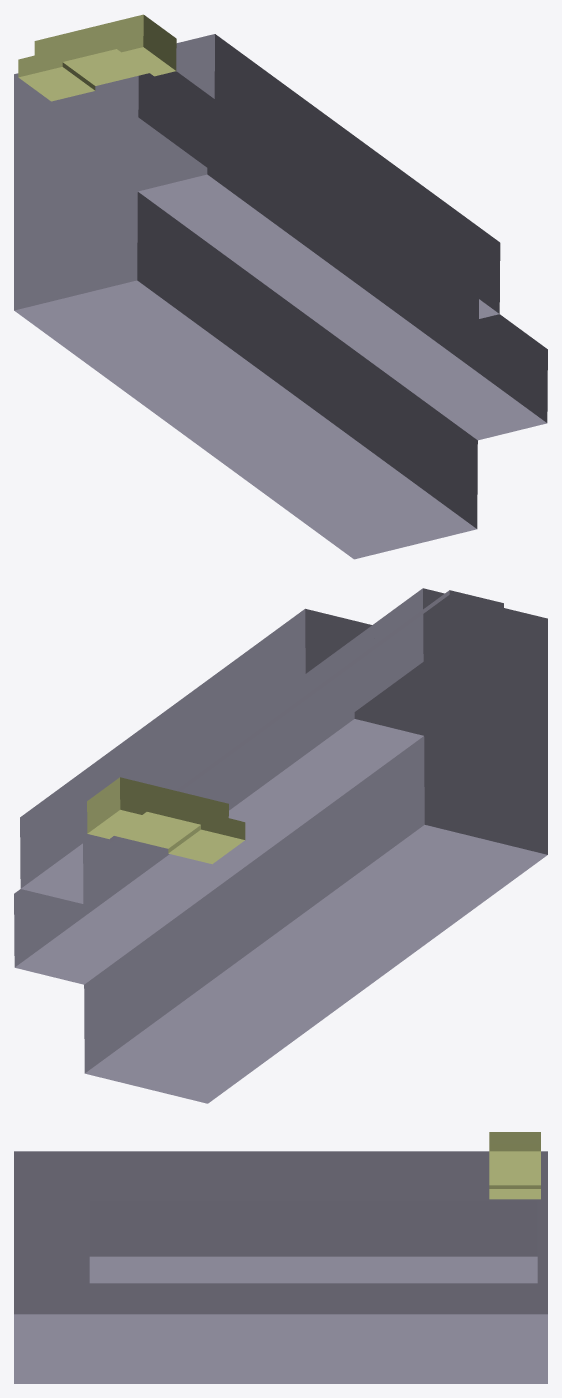
3 renders of one model, top to bottom at view 1: azimuth 30°, elevation 25°; view 2: azimuth 150°, elevation 25°; view 3: azimuth 270°, elevation 25°, orthographic. The views are drawn at different scales.
Parts seen in each view (by area): view 1: 0_3_1_3_0_3_3_0_3; view 2: 0_3_1_3_0_3_3_0_3; view 3: 0_3_1_3_0_3_3_0_3.
Part boxes in pixels (x1,y1,x2,y2): 0_3_1_3_0_3_3_0_3: (14,14,547,559); 0_3_1_3_0_3_3_0_3: (14,588,547,1103); 0_3_1_3_0_3_3_0_3: (14,1132,547,1383).
Bounding box in the file's own units: 30.72 × 40.56 × 93.
